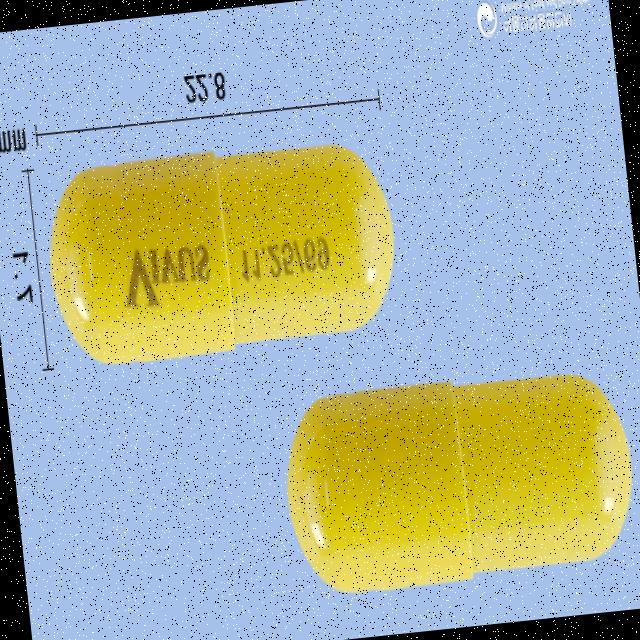Qsymia Cap: (38, 133, 408, 374)
